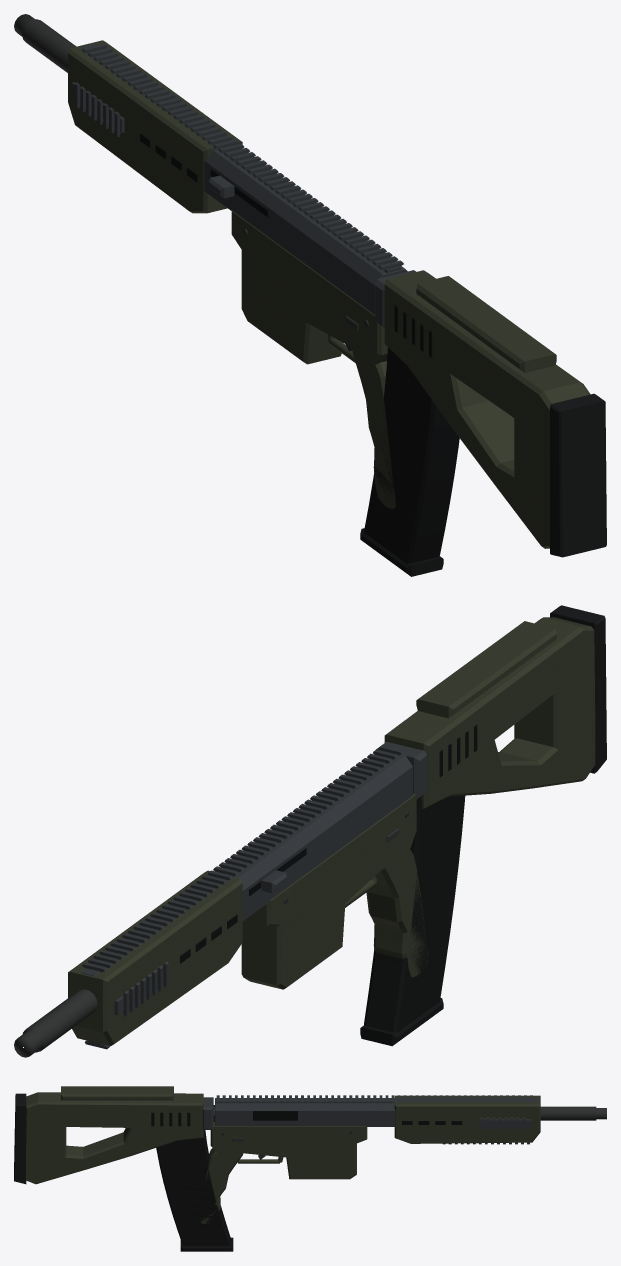
Rendered from weapon-14-B-OvGij-.glb.
The picture shows the model from 3 angles, top to bottom: view 1: azimuth 30°, elevation 25°; view 2: azimuth 150°, elevation 25°; view 3: azimuth 270°, elevation 25°; orthographic projection. The views are drawn at different scales.
Parts seen in each view (by area): view 1: salient_weapon_body, salient_weapon_magazine; view 2: salient_weapon_body, salient_weapon_magazine; view 3: salient_weapon_body, salient_weapon_magazine.
Boxes of the visible parts, box(x1,y1,x2,y2) form: salient_weapon_body: box(14, 14, 606, 557); salient_weapon_magazine: box(360, 347, 459, 576); salient_weapon_body: box(14, 605, 606, 1057); salient_weapon_magazine: box(360, 795, 465, 1046); salient_weapon_body: box(14, 1086, 606, 1223); salient_weapon_magazine: box(156, 1130, 233, 1251).
Bounding box in the file's own units: 0.048 × 0.231 × 0.7872.
11 materials, 3 textured.
